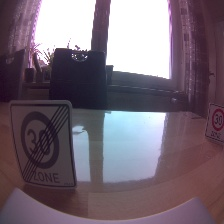dreisiger_zone_ende: (7, 99, 79, 191)
